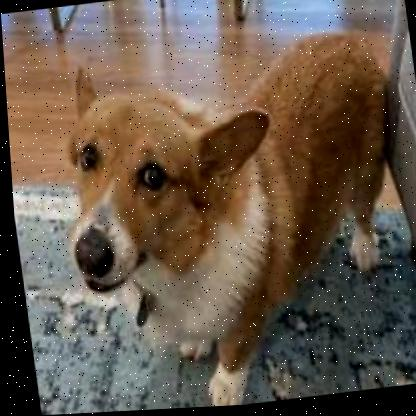dog: (43, 23, 416, 414)
